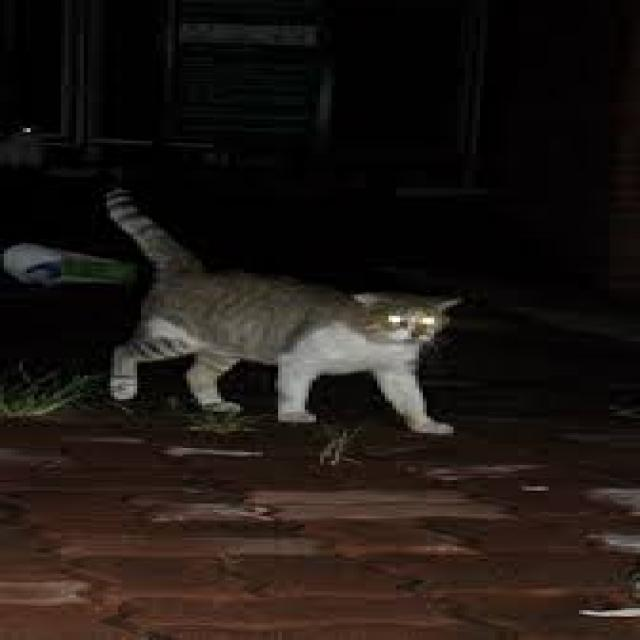cat: (34, 176, 554, 470)
